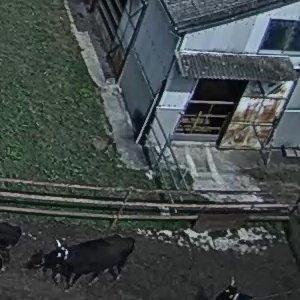cow: (29, 218, 140, 287)
